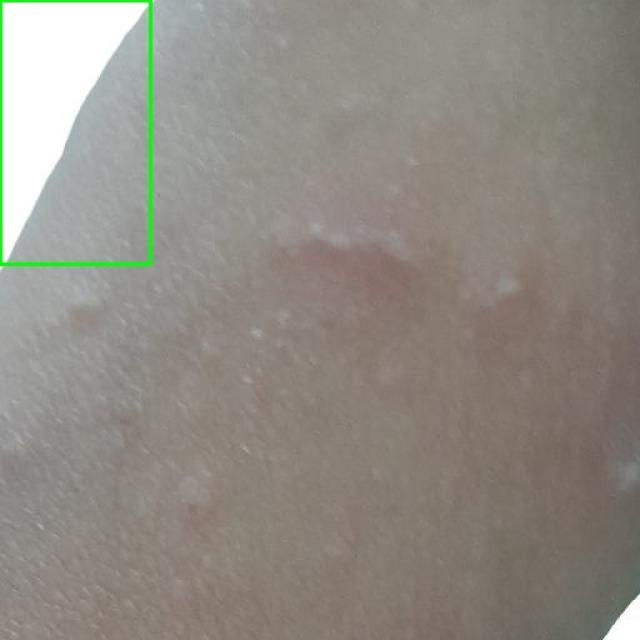Scabies: (0, 0, 150, 264)
